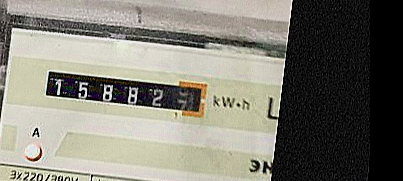1: (52, 76, 63, 95)
2: (150, 86, 165, 107)
5: (74, 78, 90, 99)
7: (174, 95, 188, 109)
8: (124, 83, 140, 105), (101, 81, 115, 102)
screen: (39, 62, 212, 121)
